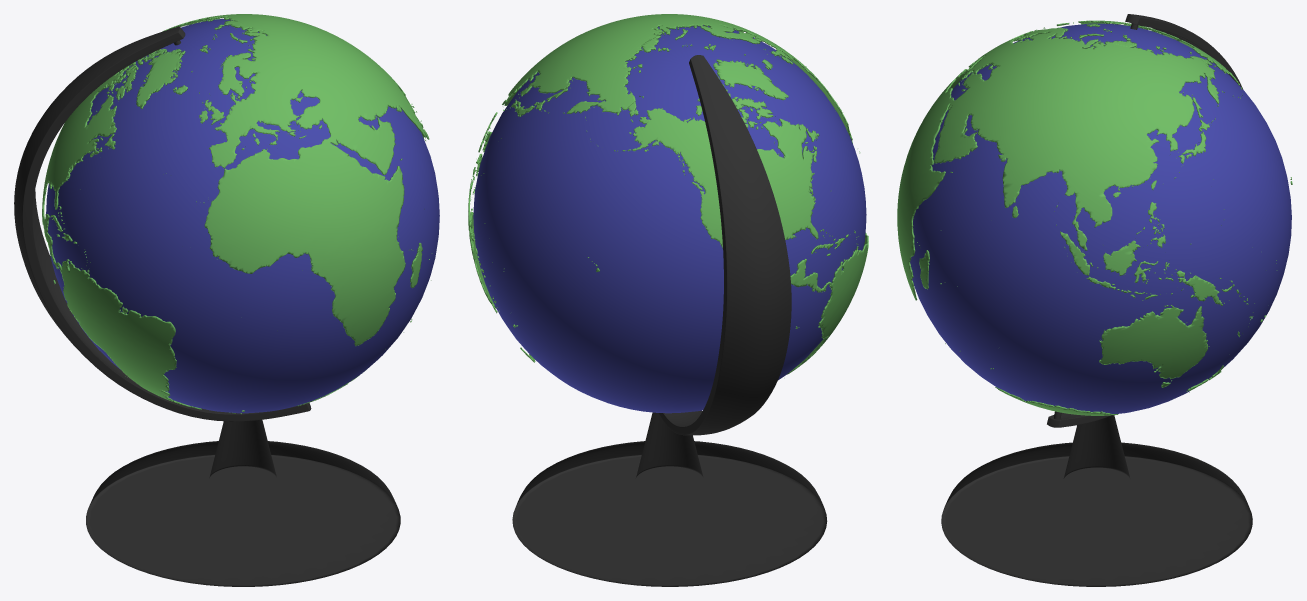
Rendered from Globe.glb.
3 renders of one model, left to right at view 1: azimuth 30°, elevation 25°; view 2: azimuth 150°, elevation 25°; view 3: azimuth 270°, elevation 25°, orthographic.
Visible parts, largest first — view 1: Cylinder; view 2: Cylinder; view 3: Cylinder.
Boxes of the visible parts, bbox=[...] form: Cylinder: bbox=[14, 14, 439, 586]; Cylinder: bbox=[468, 14, 868, 586]; Cylinder: bbox=[897, 14, 1292, 586].
Size of the model in its own units: 0.2442 by 0.3282 by 0.2426.
Materials: 2 (2 with a texture image).
